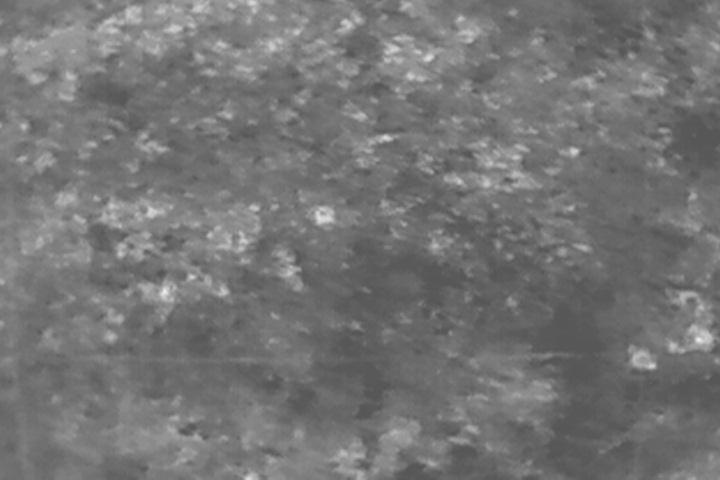landmine: (314, 202, 337, 226)
